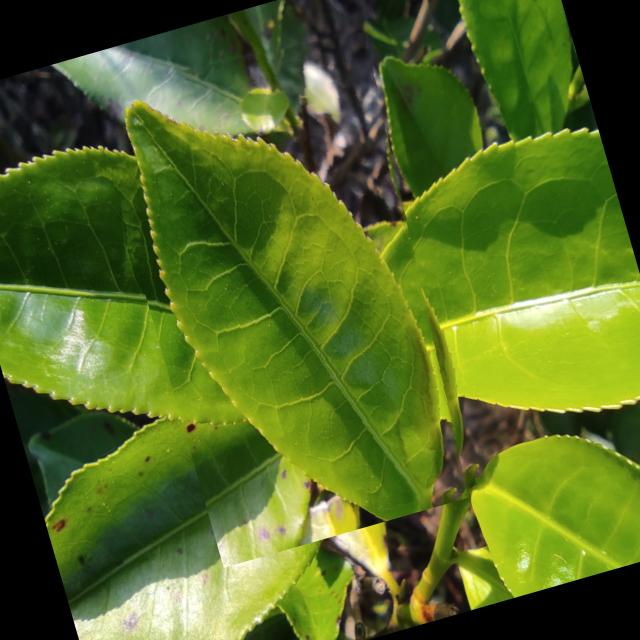Category B(2-4 days): (87, 13, 496, 568)
